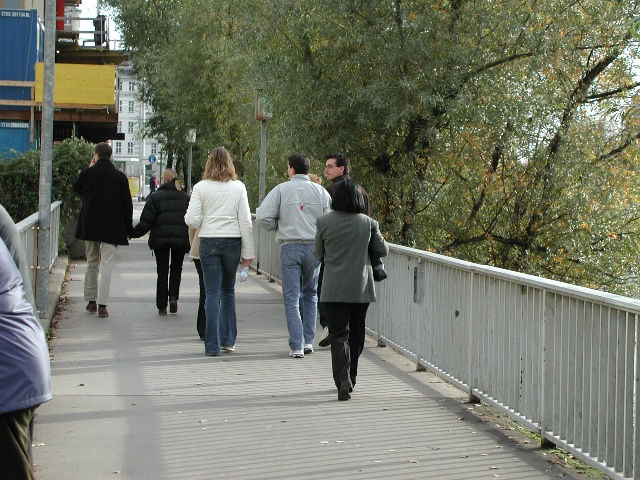person: (253, 154, 343, 353), (312, 181, 386, 397), (186, 145, 244, 354), (73, 138, 134, 315), (143, 165, 188, 312)
